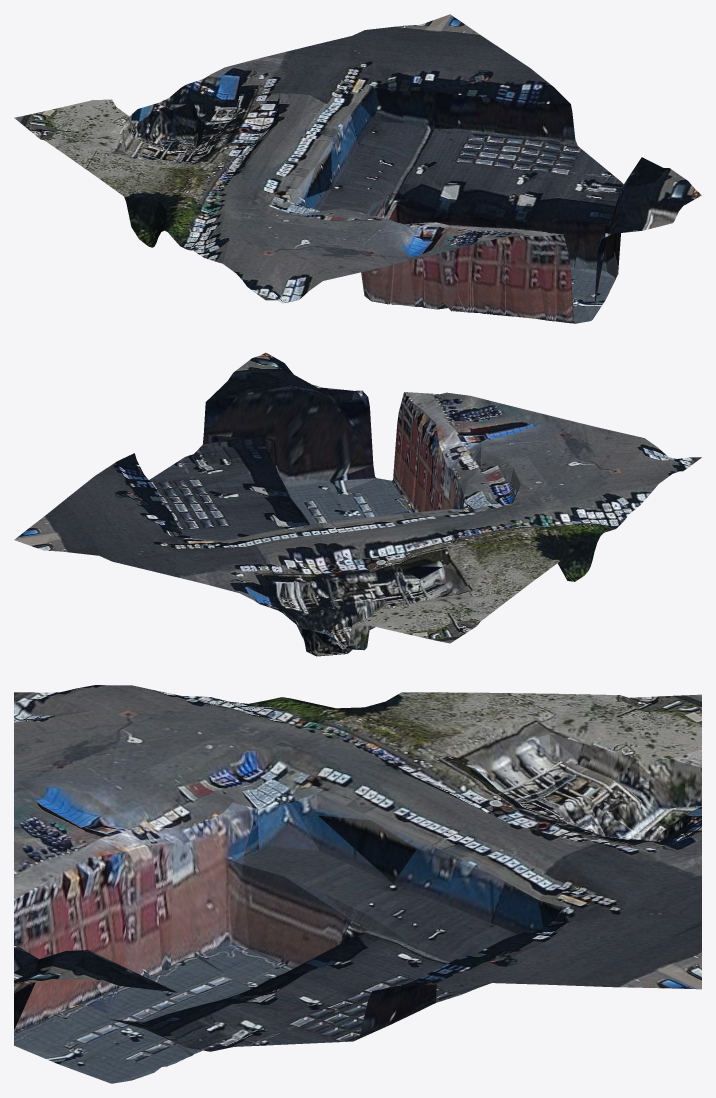
File: map_15_8181_13781.dae
3 views of the same model, one above another, from view 1: azimuth 30°, elevation 25°; view 2: azimuth 150°, elevation 25°; view 3: azimuth 270°, elevation 25° (orthographic). The views are drawn at different scales.
Visible parts, largest first — view 1: Ter0; view 2: Ter0; view 3: Ter0.
Part boxes in pixels (left/top/right/bottom): Ter0: left=14, top=14, right=701, bottom=323; Ter0: left=14, top=352, right=701, bottom=656; Ter0: left=14, top=685, right=701, bottom=1083.
Bounding box in the file's own units: 63.87 × 63.88 × 15.09.
3 materials, 3 textured.
